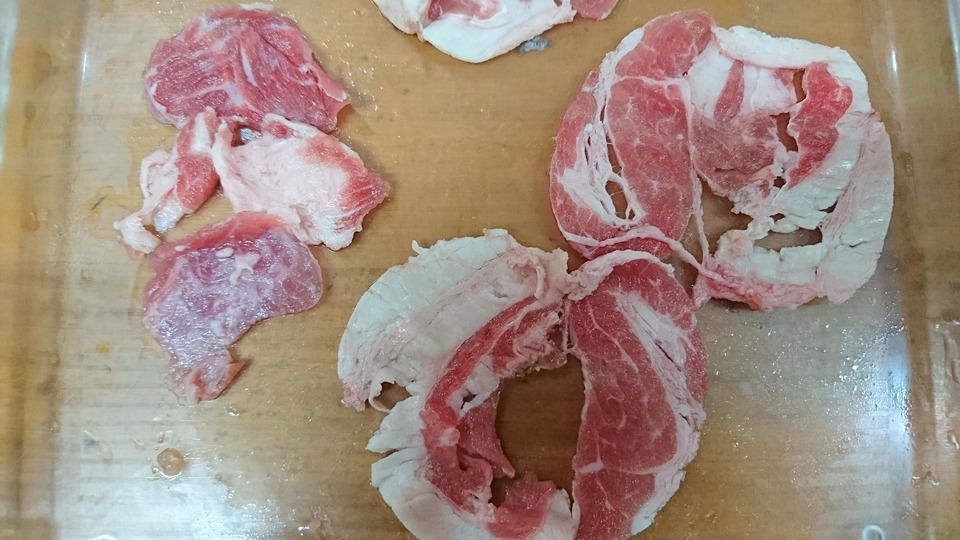restructured meat: (339, 237, 707, 540), (546, 6, 914, 309), (130, 10, 360, 401)
